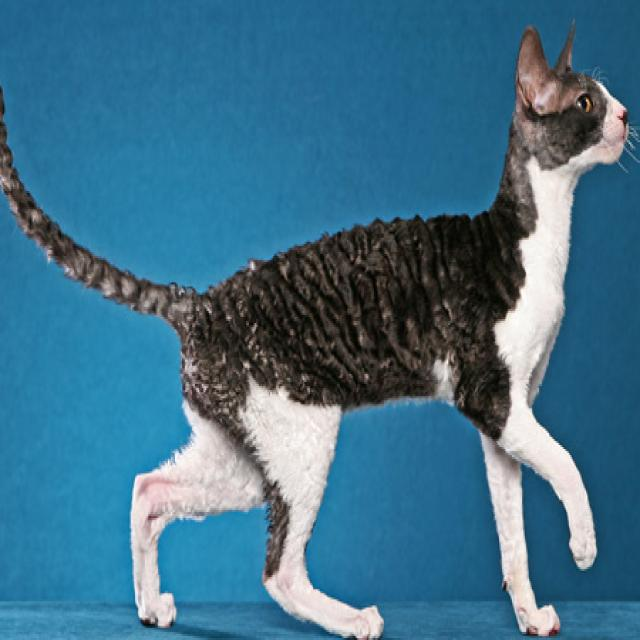Cornish Rex: (0, 10, 637, 640)
